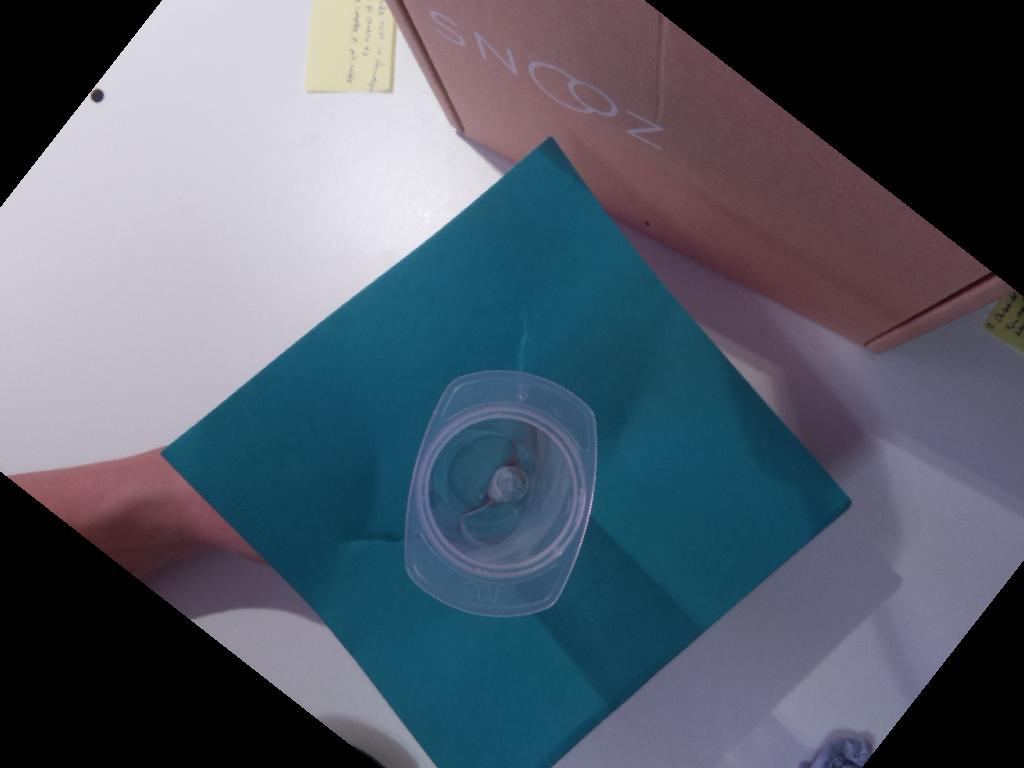clean: (399, 362, 598, 624)
